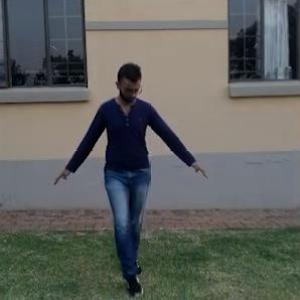land: (59, 45, 215, 282)
